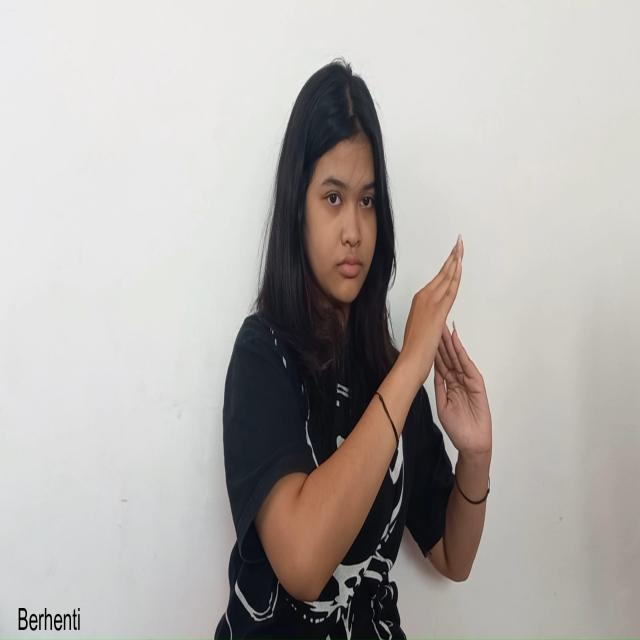Berhenti -BISINDO-: (402, 230, 494, 465)
